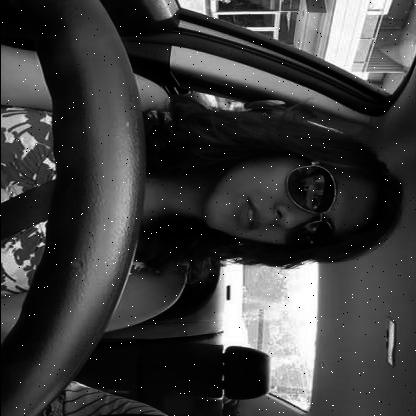seatbelt: (0, 96, 414, 264)
